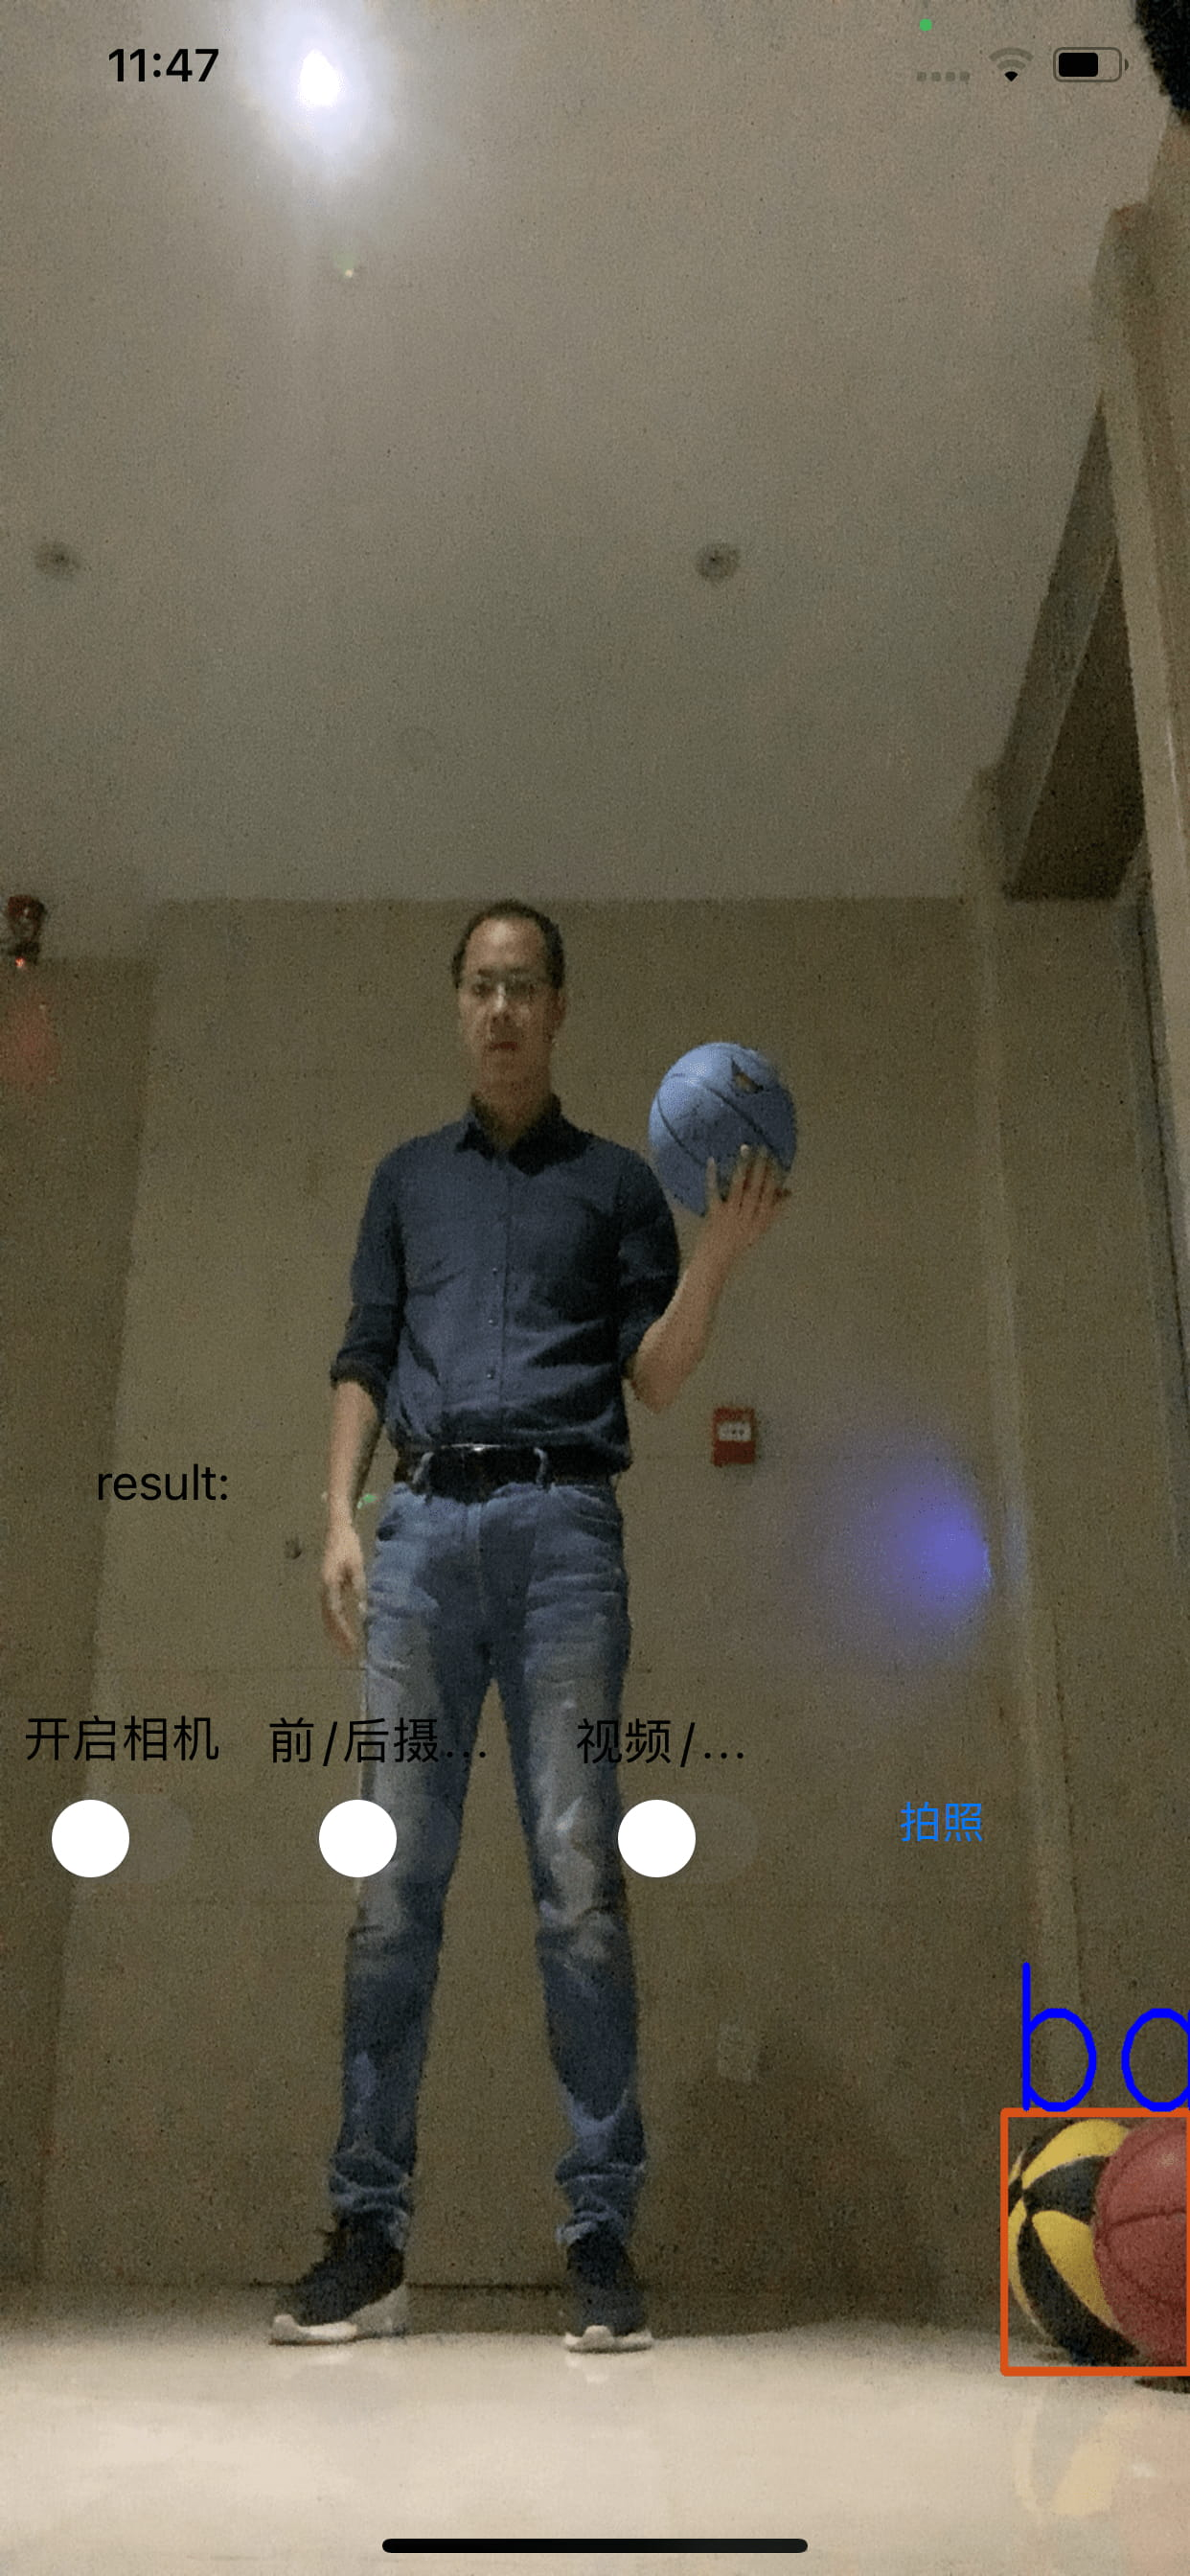ball: (644, 1035, 805, 1227), (1014, 2123, 1126, 2361), (1090, 2126, 1190, 2376)
